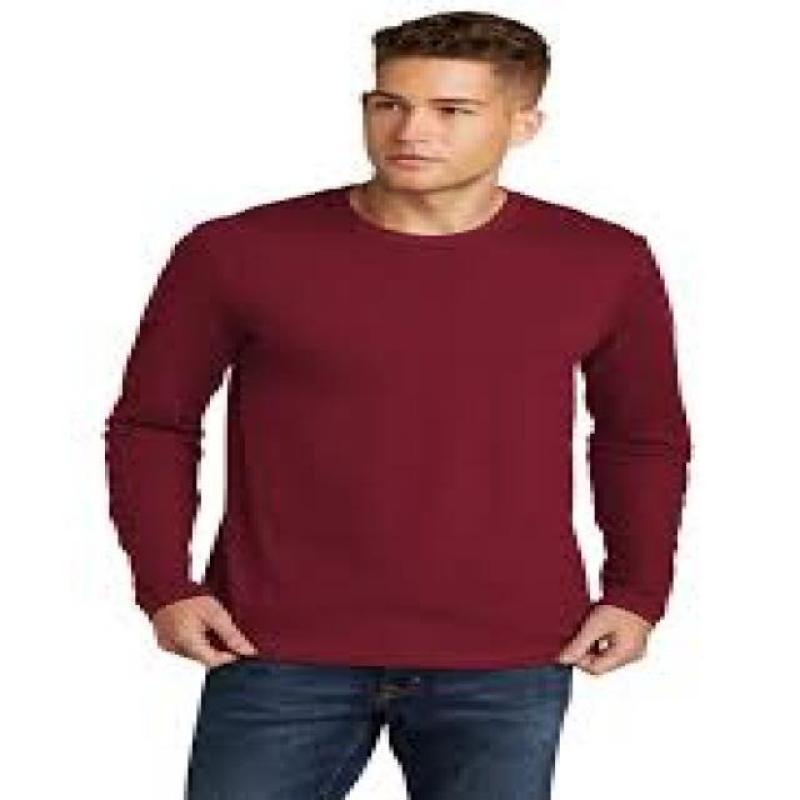sweater: (102, 178, 697, 667)
trousers: (185, 656, 575, 800)
